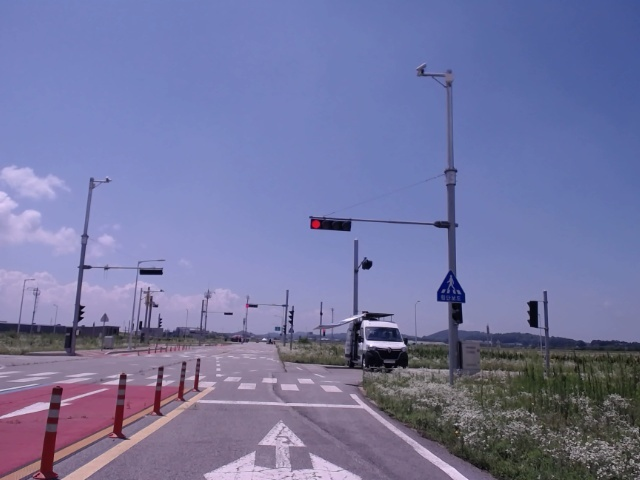red_4: (311, 219, 351, 232)
